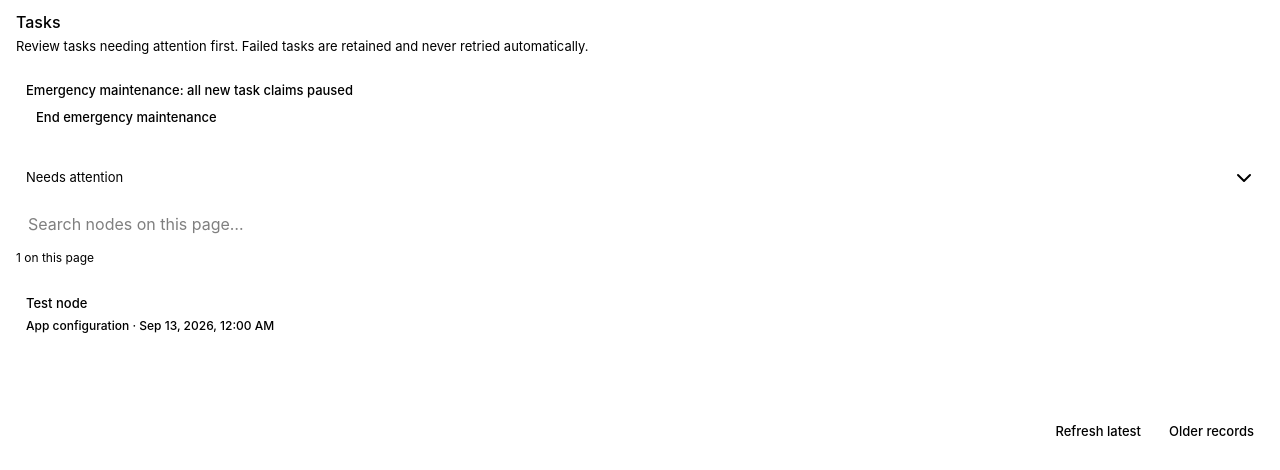
Scenario: loads actual pages and does not offer execution mutations until opened and confirmed
Click the button "Older records".
click(1212, 432)  # box [1159,410,1264,454]
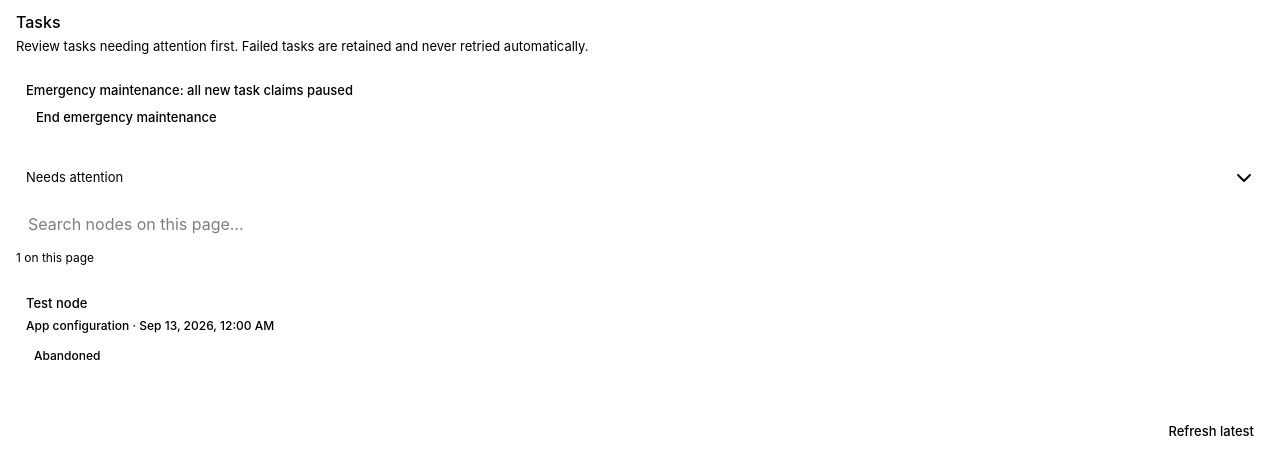
Expected: the text "Abandoned" is shown, [34,348,100,362]
